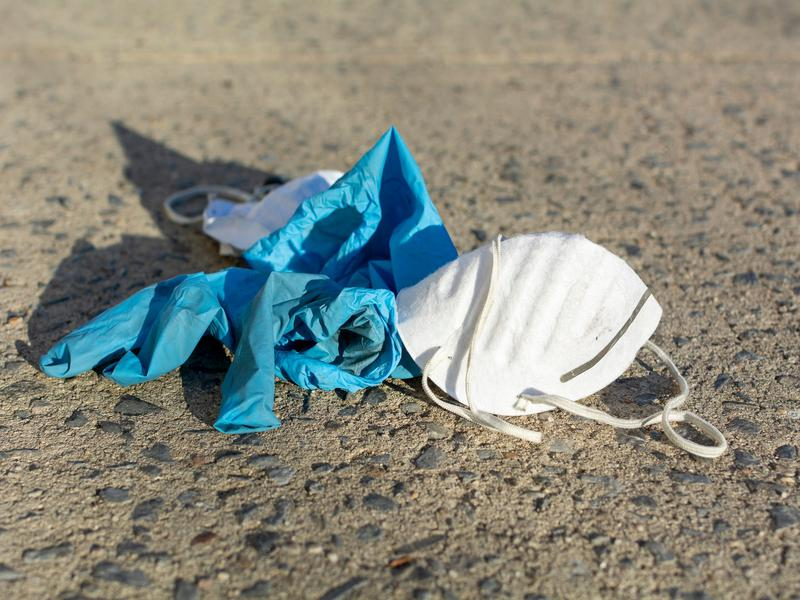gloves: (29, 263, 415, 441), (242, 107, 462, 285)
mask: (395, 227, 732, 462), (154, 162, 345, 259)
